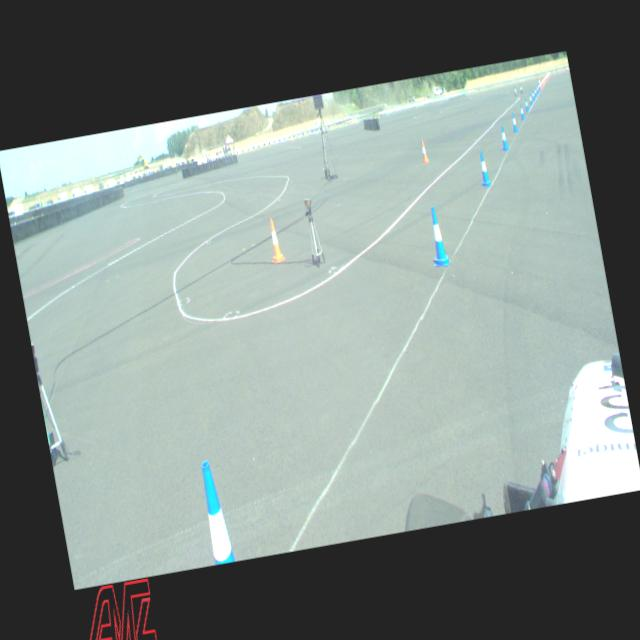blue_cone: (197, 459, 234, 562), (424, 205, 450, 268), (476, 150, 491, 186), (498, 125, 508, 150), (510, 112, 518, 132), (518, 104, 526, 120), (528, 93, 533, 105), (524, 98, 528, 110), (531, 90, 535, 100), (533, 87, 537, 97), (536, 85, 538, 94), (538, 84, 540, 90)
large_orange_cone: (538, 76, 542, 90)
orange_cone: (265, 218, 285, 261), (419, 140, 429, 164)
